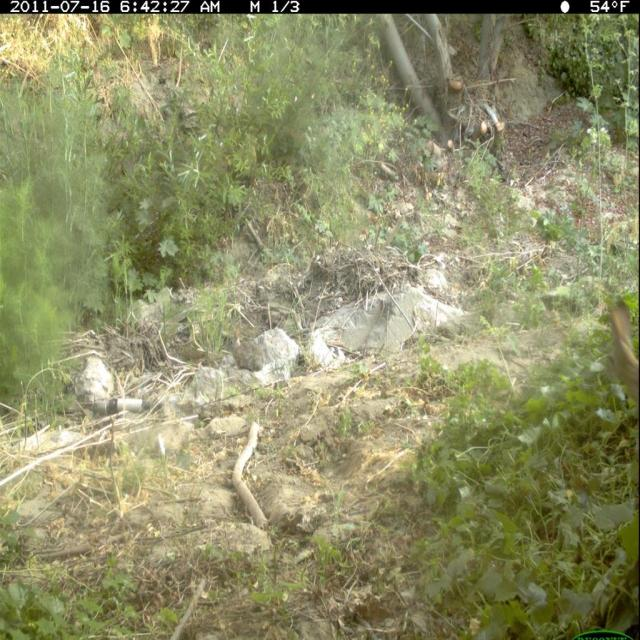rabbit: (601, 295, 640, 416)
